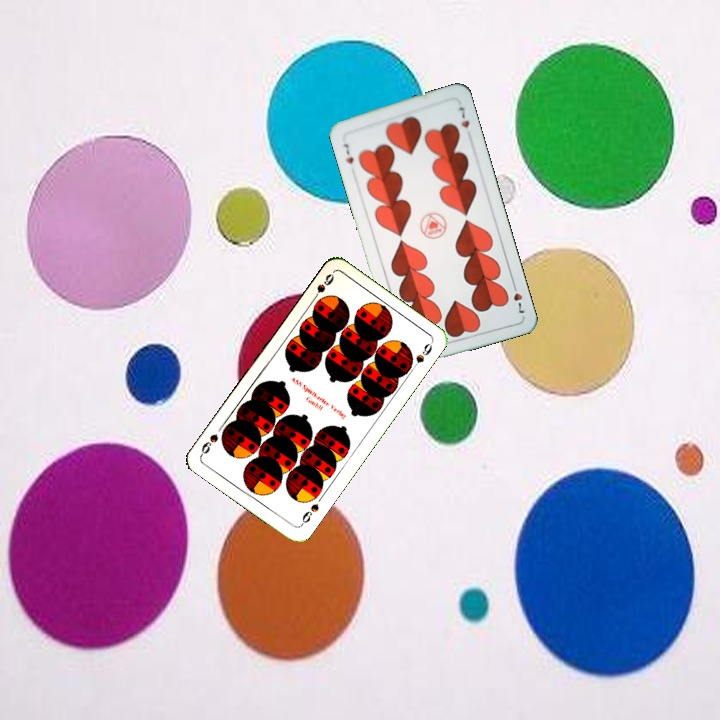H7: (508, 278, 527, 316), (339, 139, 356, 166)
S9: (307, 269, 337, 305), (297, 499, 322, 529)
